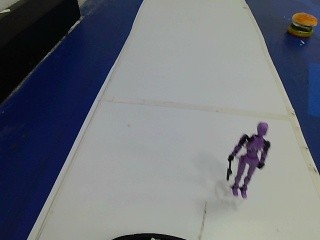burger: (285, 10, 317, 41)
pedestrian: (218, 116, 271, 208)
